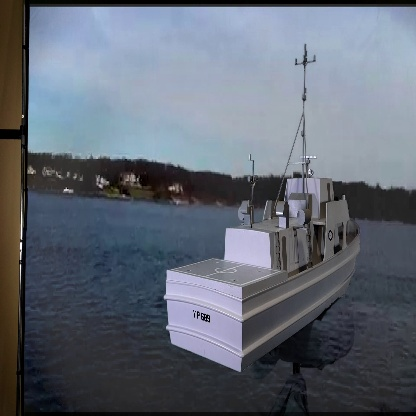YP689: (162, 45, 362, 370)
